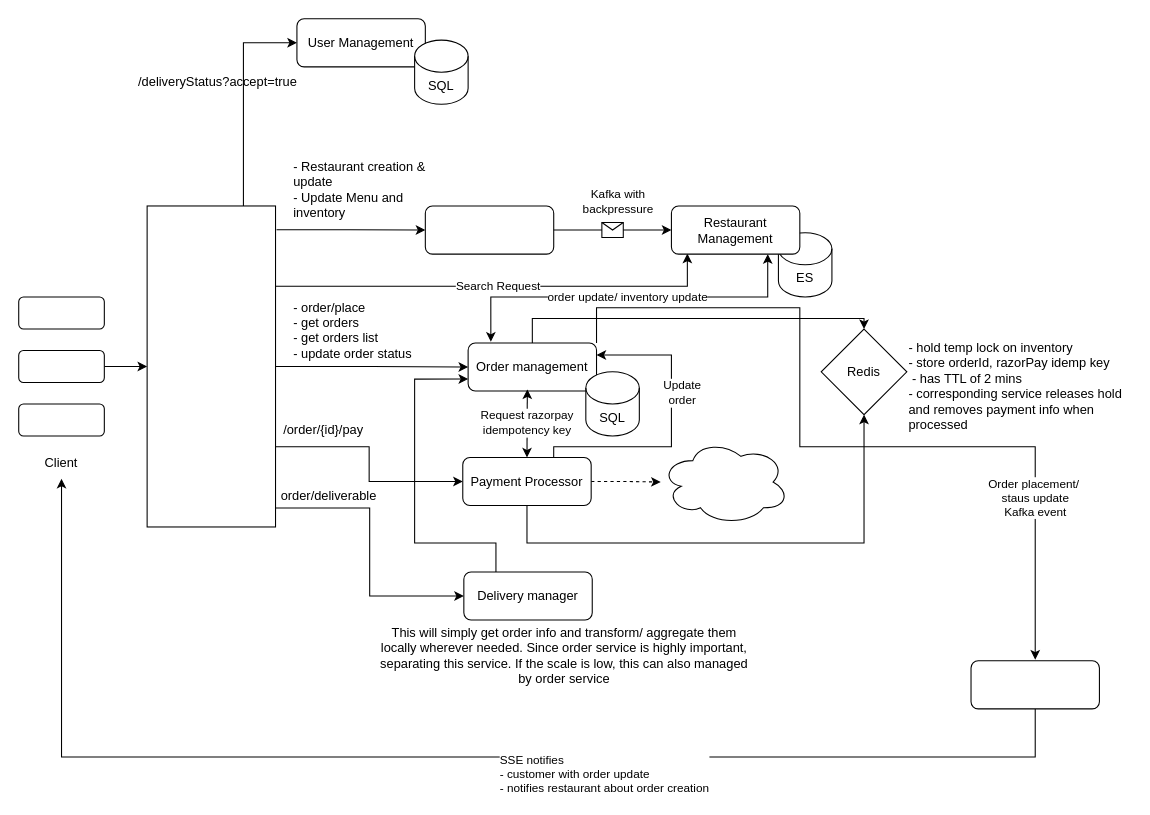
Image size: 1150x815. Some labels were removed from this diagram. The centre of each missing label's shape, as x and y in pixels:
3rd party payment provider: the point at 724,481
API Gateway -security -ddos -rate-limiting: the point at 211,366
Notificator: the point at 1034,684
Restaurant Admin: the point at 489,229
